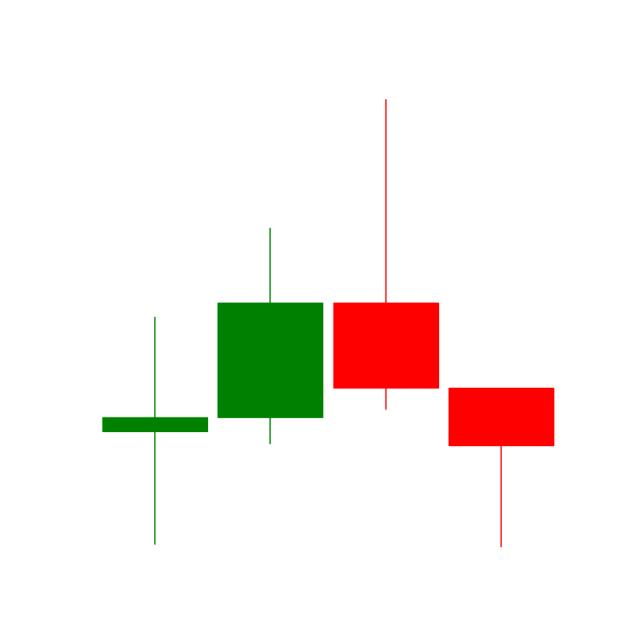Hanging Man: (443, 385, 559, 549)
Shooting Star: (334, 89, 442, 415)
Standard Doji: (100, 311, 209, 548)
